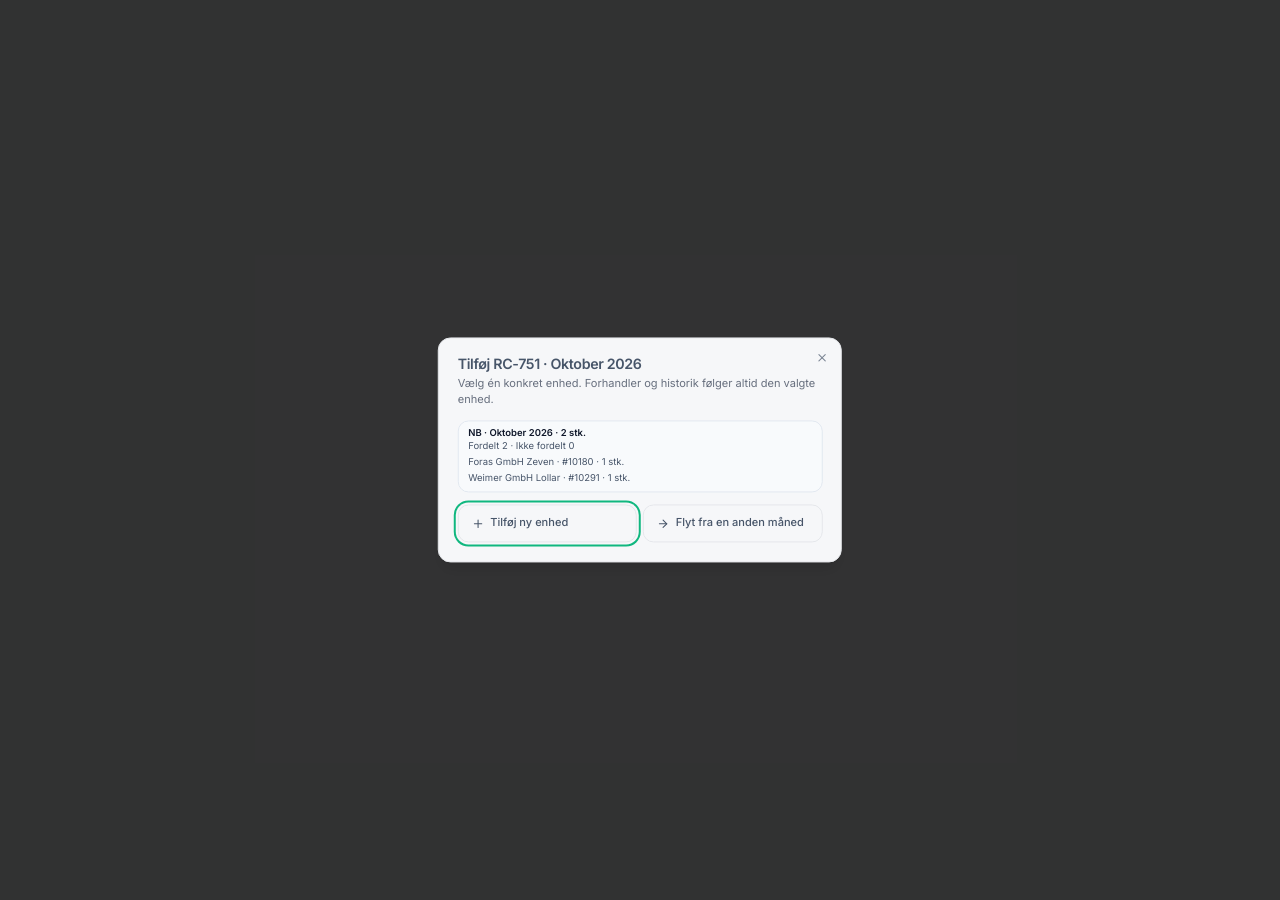
it: Working Budget unit actions › does not mutate on plus until the user explicitly confirms a new unit
Later steps or results of the test are not shown.
Click the button "Tilføj ny enhed".
click(547, 524)  # box [458, 505, 637, 543]
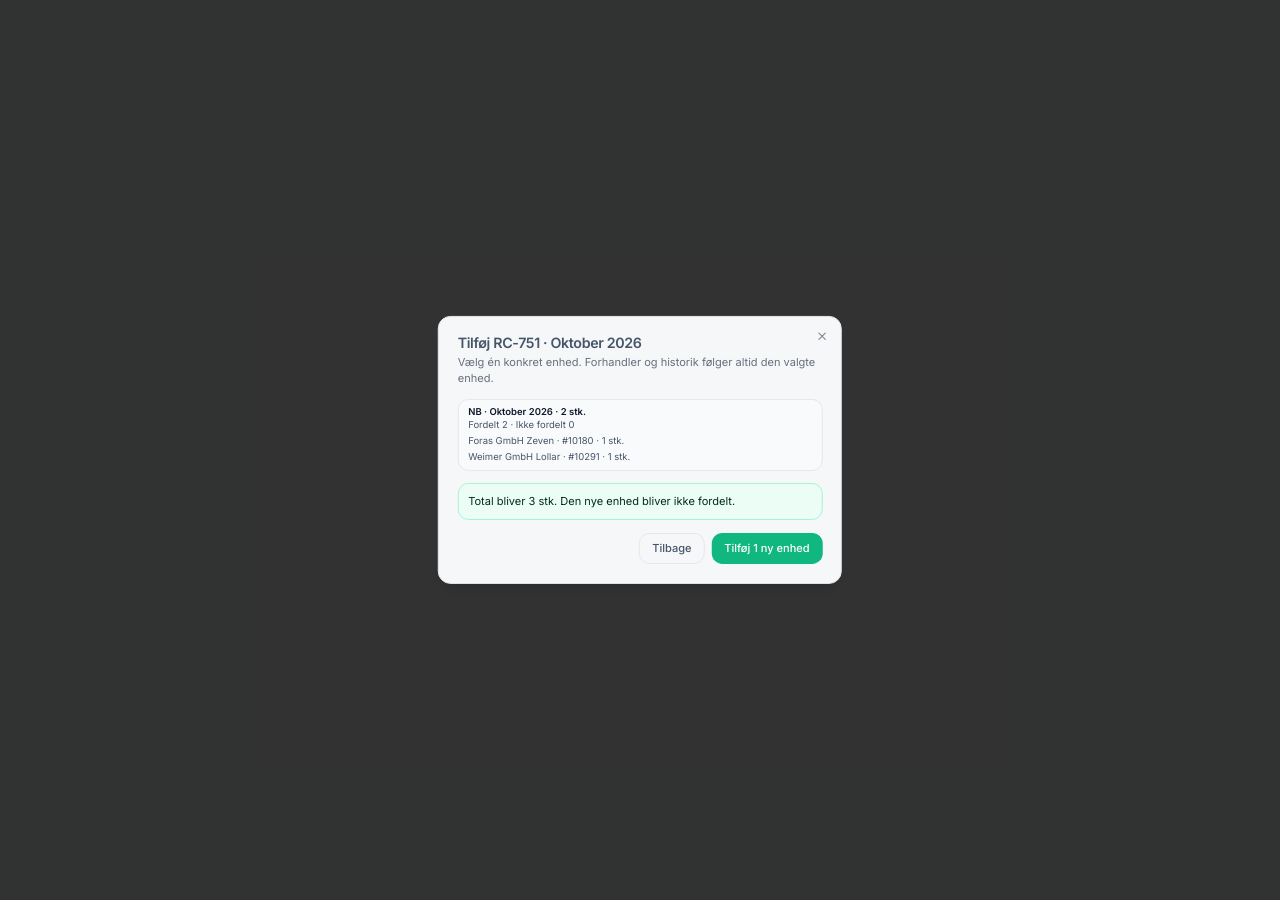
Expected: the text "Total bliver 3 stk. Den nye enhed bliver ikke fordelt." is shown, [458, 483, 822, 520]
